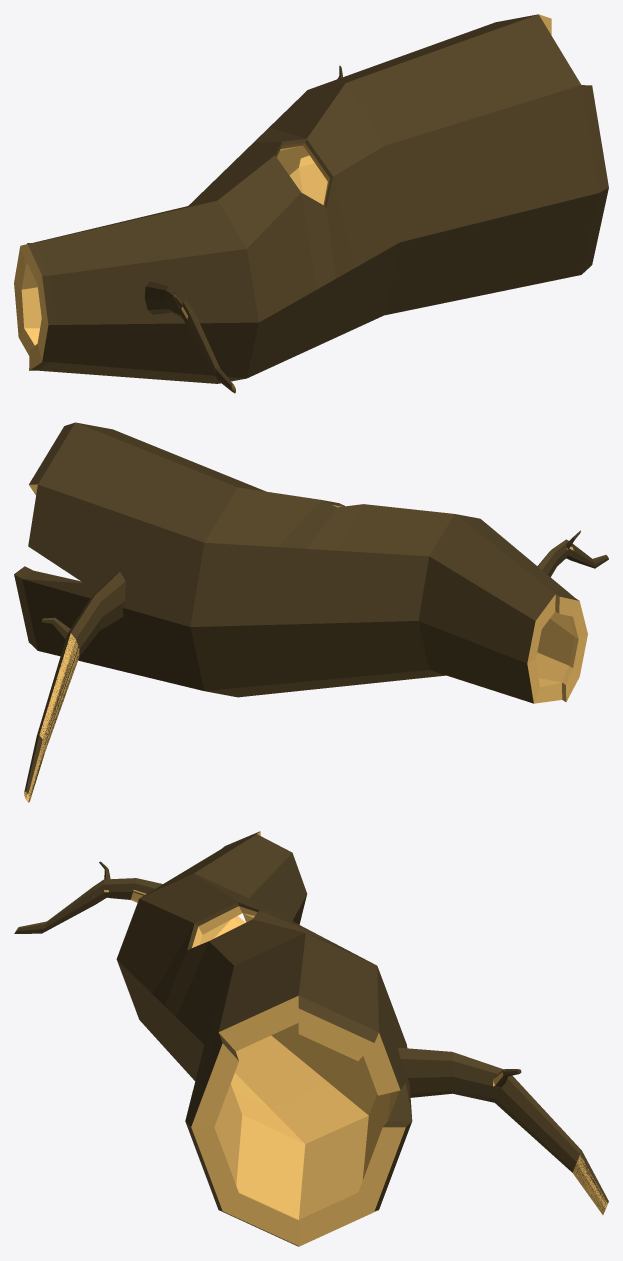
Rendered from kutukkucuk.fbx.
3 renders of one model, top to bottom at view 1: azimuth 30°, elevation 25°; view 2: azimuth 150°, elevation 25°; view 3: azimuth 270°, elevation 25°, orthographic. The views are drawn at different scales.
Parts seen in each view (by area): view 1: kutuk.001; view 2: kutuk.001; view 3: kutuk.001.
Boxes of the visible parts, x1=… form: kutuk.001: x1=14, y1=14, x2=608, y2=393; kutuk.001: x1=14, y1=422, x2=608, y2=802; kutuk.001: x1=14, y1=831, x2=608, y2=1246.
Size of the model in its own units: 100 by 50 by 100.
